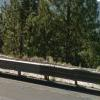Tree: (3, 1, 100, 60)
